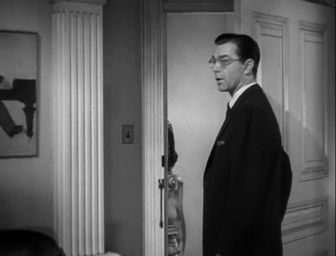face: (209, 46, 237, 92)
mls: (1, 1, 336, 256)
person: (202, 33, 292, 256)
